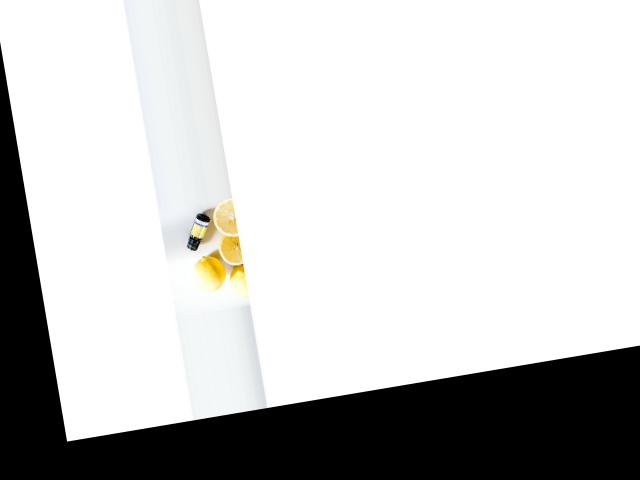lemon: (194, 254, 225, 293)
